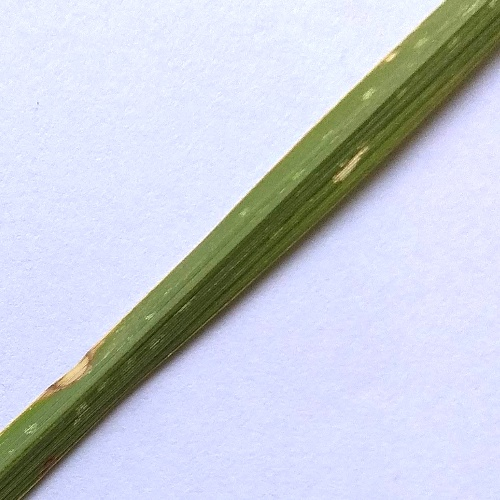Busuk Leher: (38, 346, 106, 392), (330, 137, 381, 186), (375, 36, 406, 68)
